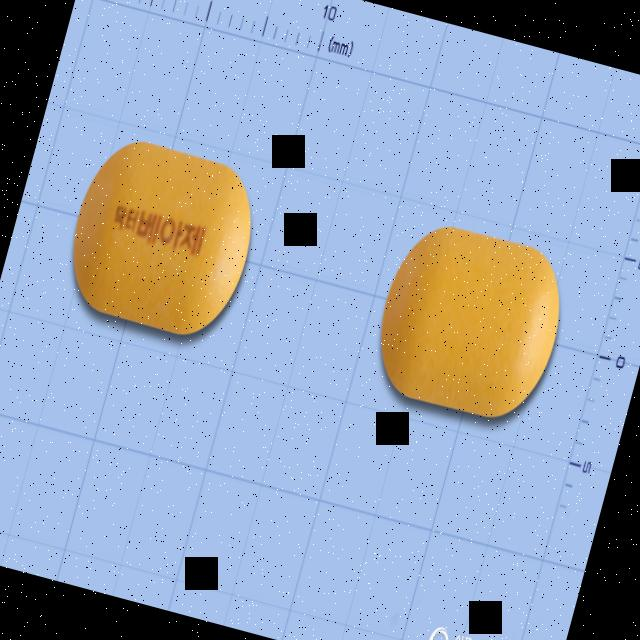Dr- Bearse: (54, 129, 268, 346)
